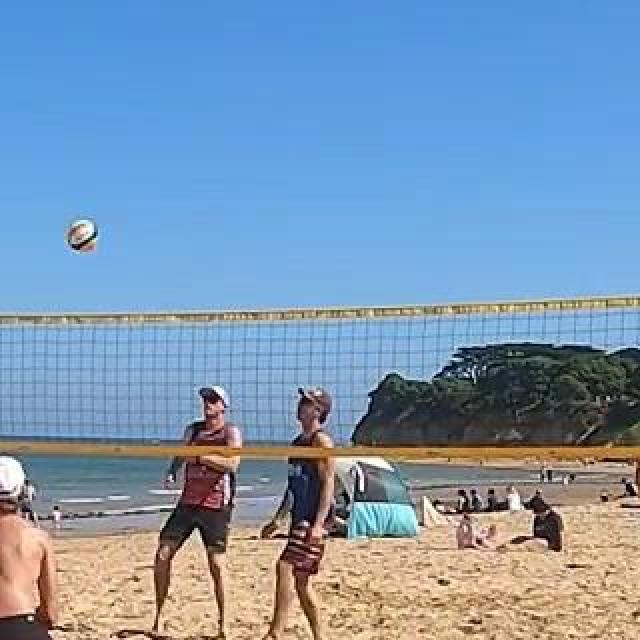volleyball: (66, 222, 98, 252)
